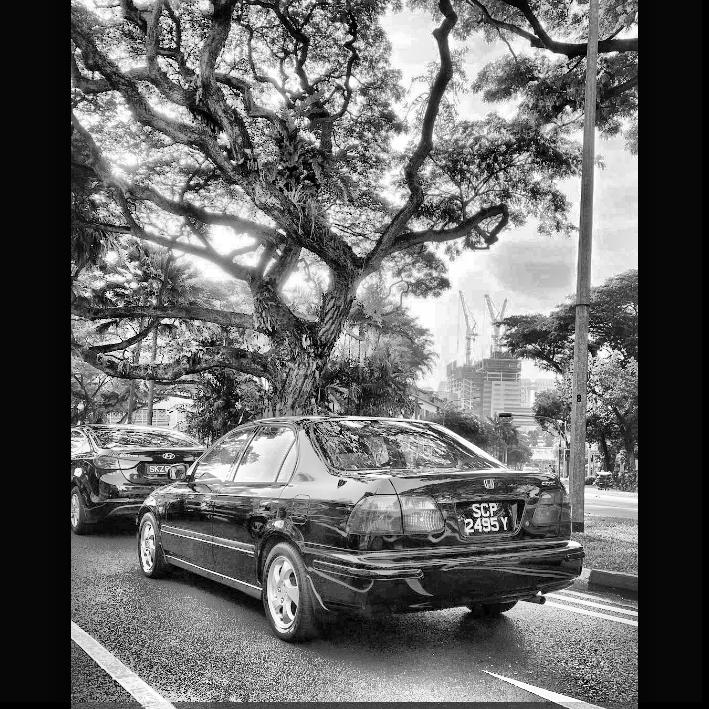License-Plates: (460, 500, 513, 536), (146, 465, 186, 473)
